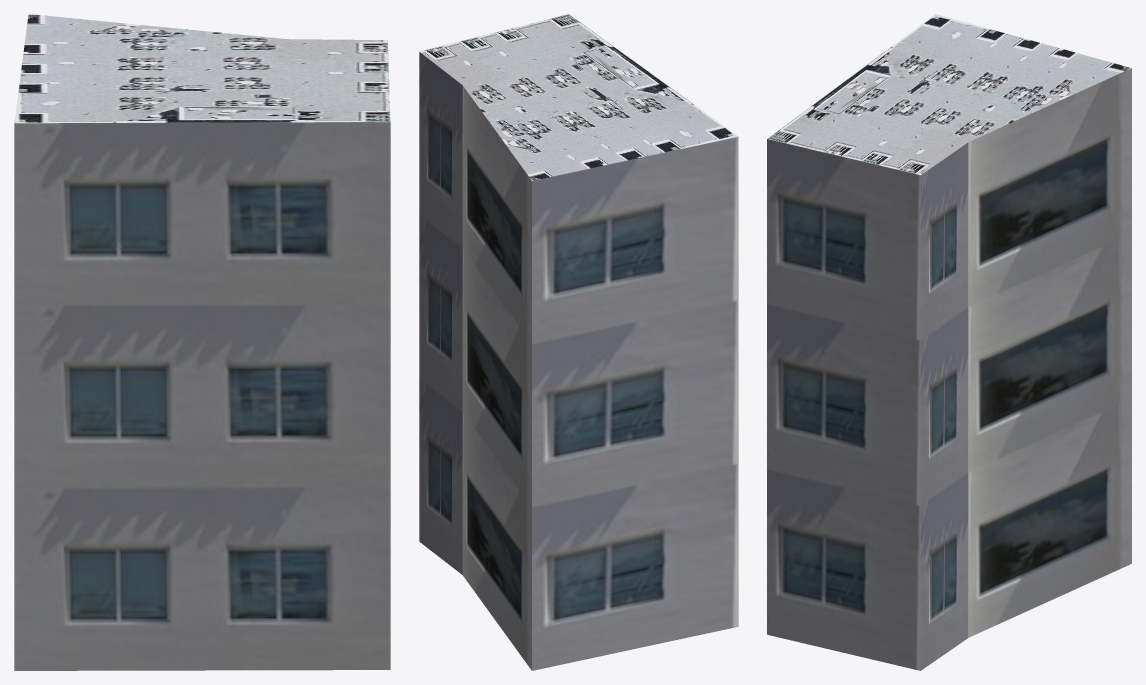
File: ResTex__3412.fbx
3 renders of one model, left to right at view 1: azimuth 30°, elevation 25°; view 2: azimuth 150°, elevation 25°; view 3: azimuth 270°, elevation 25°, orthographic. The views are drawn at different scales.
Visible parts, largest first — view 1: CityEngineMaterial_10_m, CityEngineMaterial_8_m; view 2: CityEngineMaterial_10_m, CityEngineMaterial_8_m; view 3: CityEngineMaterial_10_m, CityEngineMaterial_8_m.
Part boxes in pixels (left/top/right/bottom): CityEngineMaterial_10_m: left=14, top=122, right=390, bottom=670; CityEngineMaterial_8_m: left=14, top=14, right=390, bottom=123; CityEngineMaterial_10_m: left=419, top=52, right=738, bottom=670; CityEngineMaterial_8_m: left=420, top=14, right=738, bottom=180; CityEngineMaterial_10_m: left=767, top=68, right=1131, bottom=670; CityEngineMaterial_8_m: left=767, top=14, right=1131, bottom=175.
Size of the model in its own units: 6.28 by 9 by 6.
2 materials, 2 textured.
